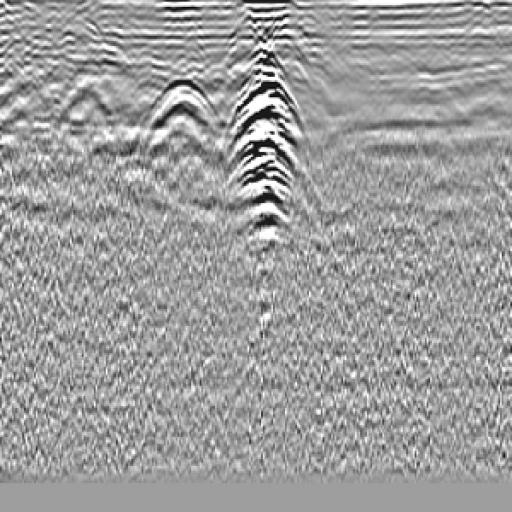metalic: (227, 33, 304, 259)
nonmetalic: (131, 77, 235, 173)
